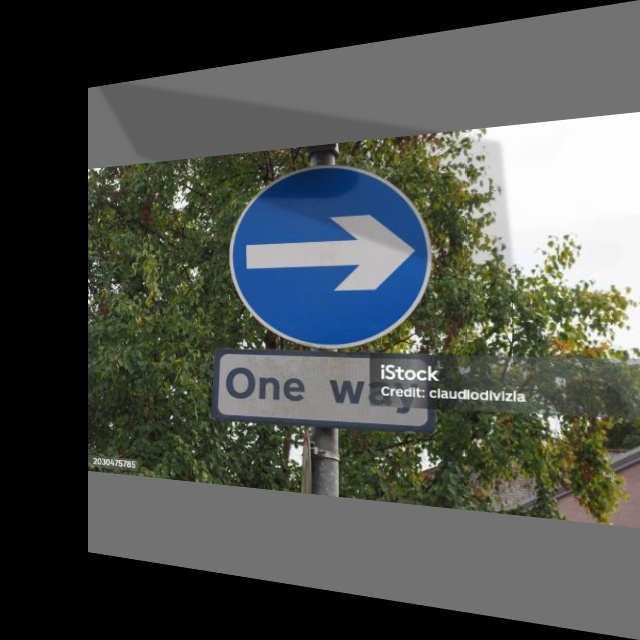Compulsory_Turn_Right: (229, 153, 434, 351)
